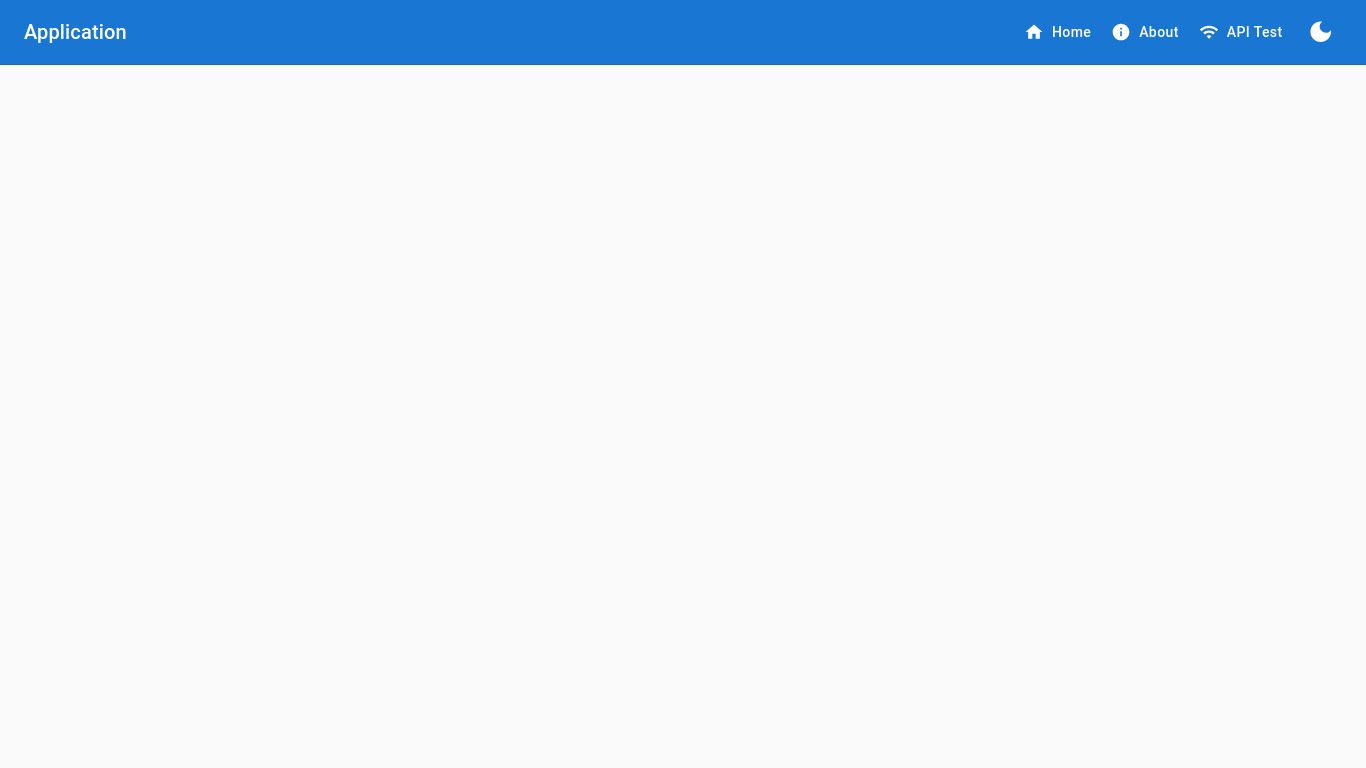
Test: Header Component › Theme Toggle Integration › should toggle theme multiple times
The width and height of the screenshot is (1366, 768).
Click the button named "switch to dark mode". click: (1320, 32)
box: [1299,10,1342,54]
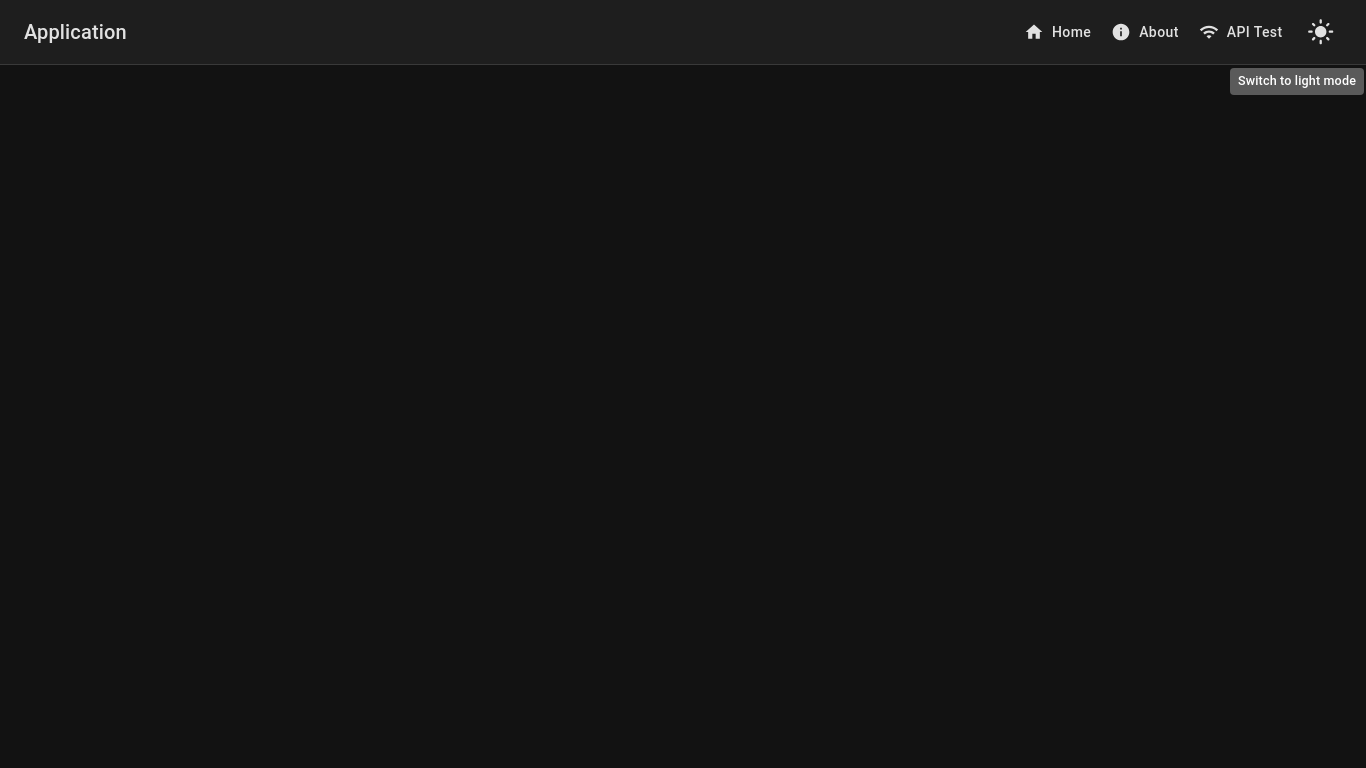
Click the button named "switch to light mode". click: (1320, 32)
box: [1299,10,1342,54]
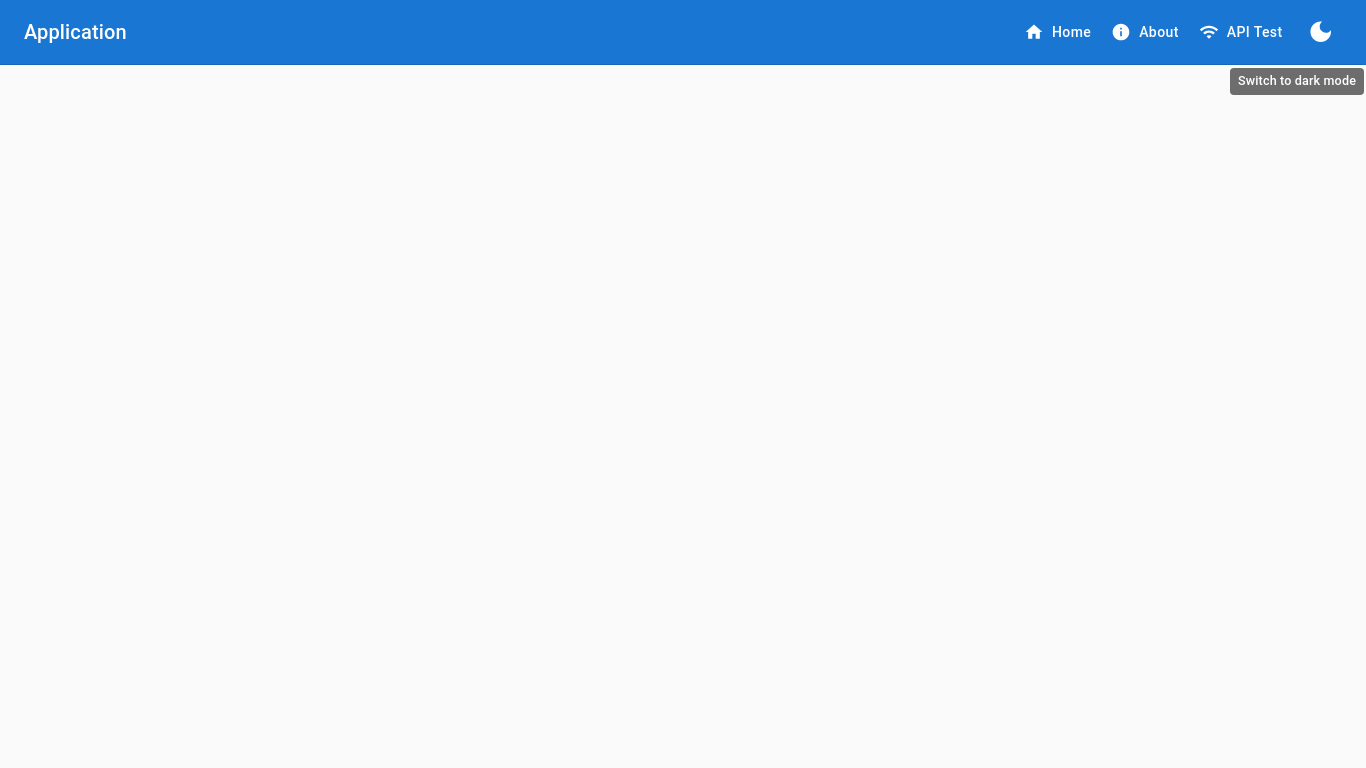
Click the button named "switch to dark mode". click: (1320, 32)
box: [1299,10,1342,54]
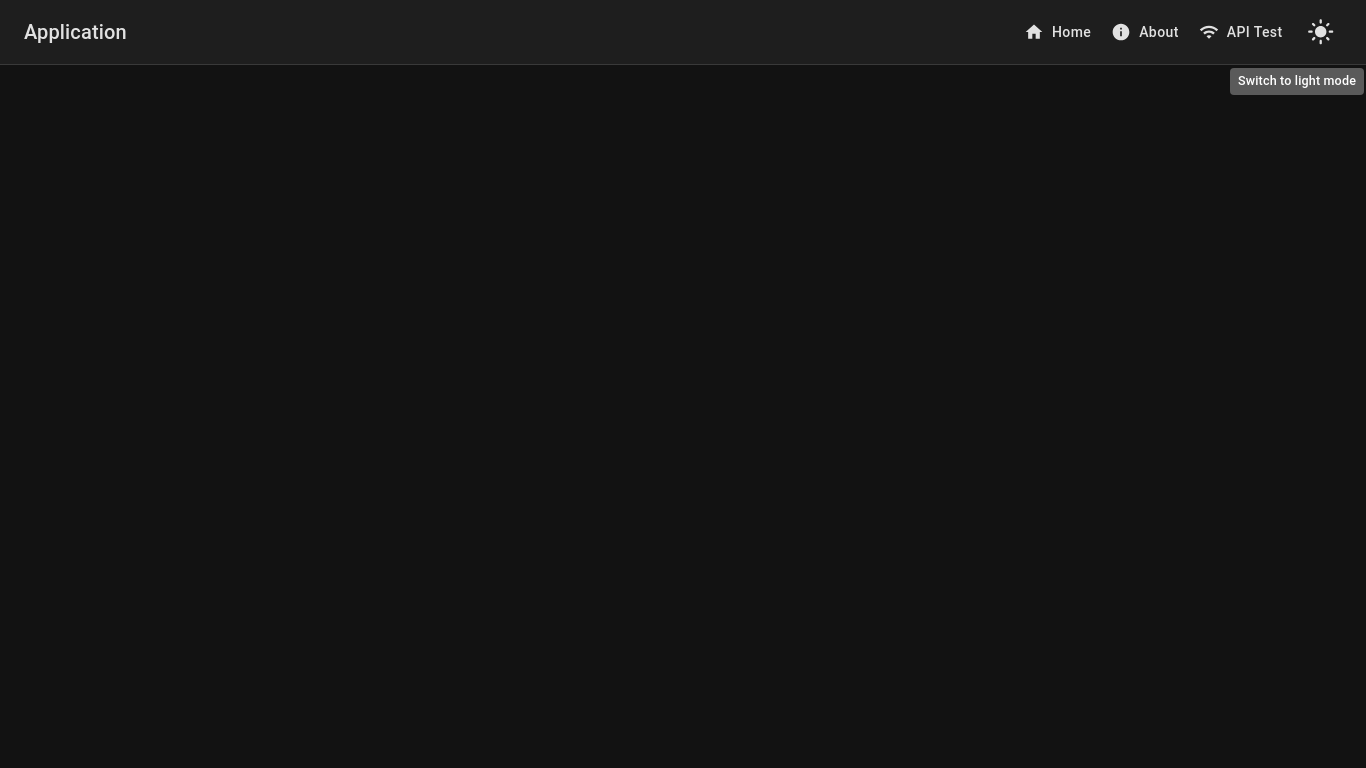
Result: the button named "switch to light mode" is shown at [1299,10,1342,54]
